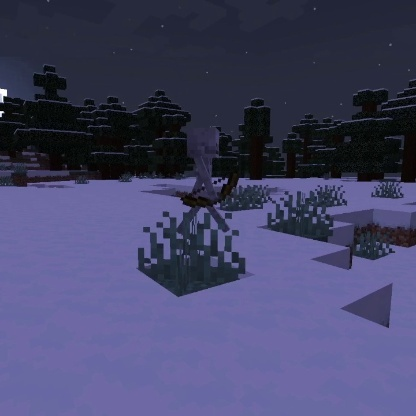skeleton: (175, 122, 242, 235)
